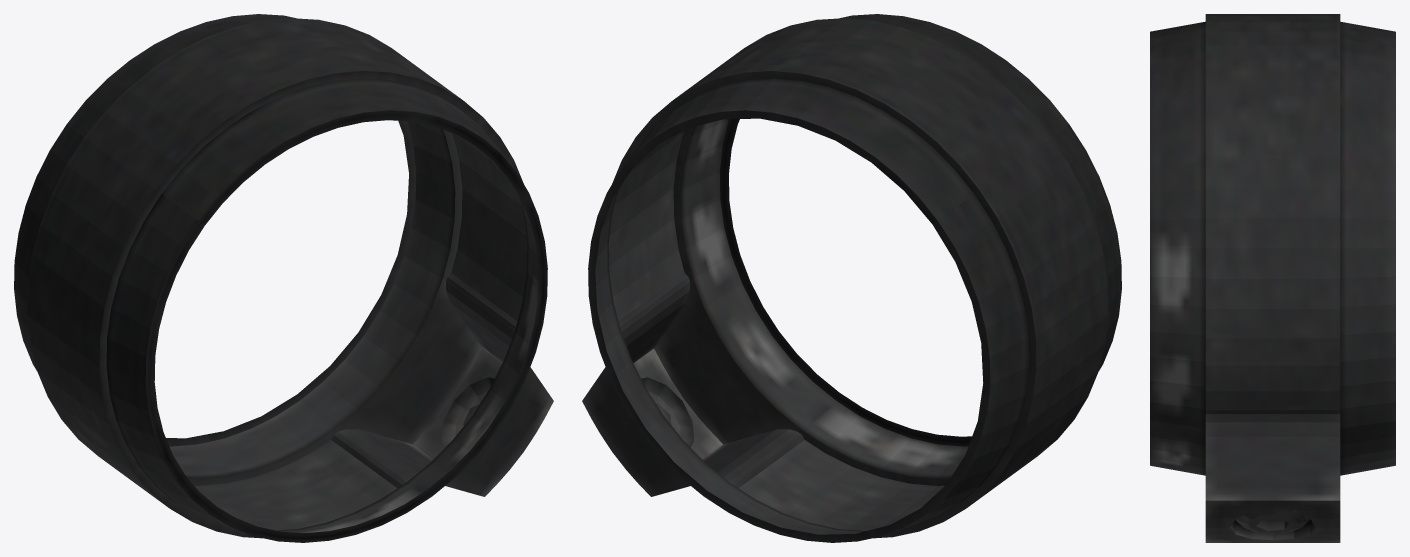
3 renders of one model, left to right at view 1: azimuth 30°, elevation 25°; view 2: azimuth 150°, elevation 25°; view 3: azimuth 270°, elevation 25°, orthographic. The views are drawn at different scales.
Visible parts, largest first — view 1: TW_5a37cb10c4a282329a73b4e7_PZ_Import; view 2: TW_5a37cb10c4a282329a73b4e7_PZ_Import; view 3: TW_5a37cb10c4a282329a73b4e7_PZ_Import.
Part boxes in pixels (x1,y1,x2,y2): TW_5a37cb10c4a282329a73b4e7_PZ_Import: [14, 14, 553, 542]; TW_5a37cb10c4a282329a73b4e7_PZ_Import: [582, 14, 1121, 542]; TW_5a37cb10c4a282329a73b4e7_PZ_Import: [1150, 14, 1395, 542].
Bounding box in the file's own units: 0.0211 × 0.0106 × 0.0204.
Materials: 1 (1 with a texture image).
